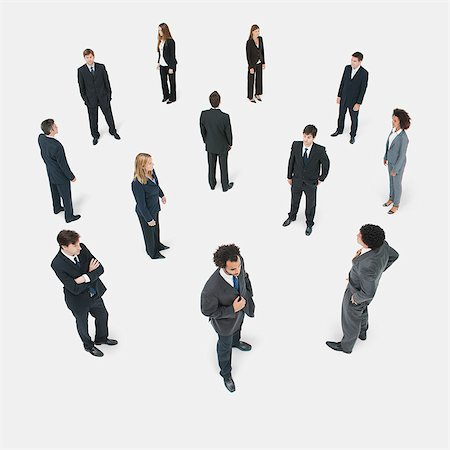person: (324, 224, 401, 356), (51, 228, 122, 359), (201, 244, 258, 393), (282, 124, 330, 236), (38, 117, 82, 223), (76, 48, 123, 145), (131, 150, 172, 259), (331, 51, 370, 145), (199, 90, 235, 191), (382, 105, 411, 215), (155, 22, 181, 104), (244, 23, 269, 104)
